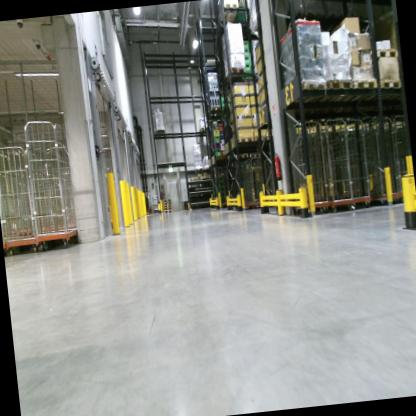pallet: (315, 75, 356, 103), (289, 79, 328, 107), (348, 77, 380, 104), (216, 1, 242, 24), (221, 64, 247, 86), (378, 76, 402, 95), (373, 44, 397, 62), (206, 106, 222, 117), (235, 136, 255, 144), (254, 132, 270, 141), (249, 152, 261, 159), (197, 127, 208, 134), (162, 197, 172, 203), (162, 207, 172, 212), (162, 210, 173, 214), (163, 204, 172, 208), (162, 202, 172, 205)
pallet_truck: (143, 188, 155, 216), (182, 186, 192, 210)
